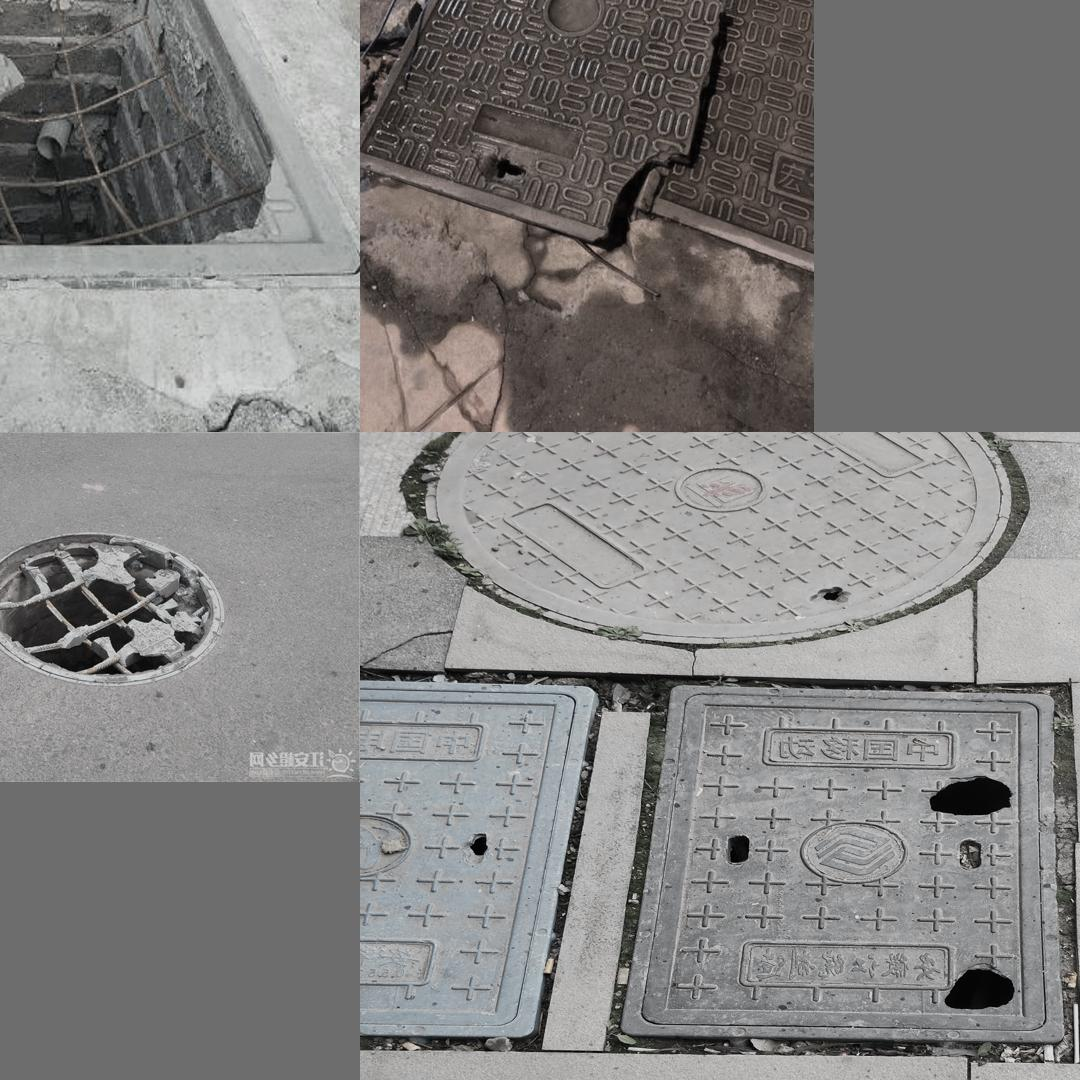broke: (616, 680, 1064, 1035), (371, 0, 804, 323), (419, 432, 1012, 645), (0, 0, 290, 339), (360, 679, 601, 1037), (0, 519, 227, 693)
